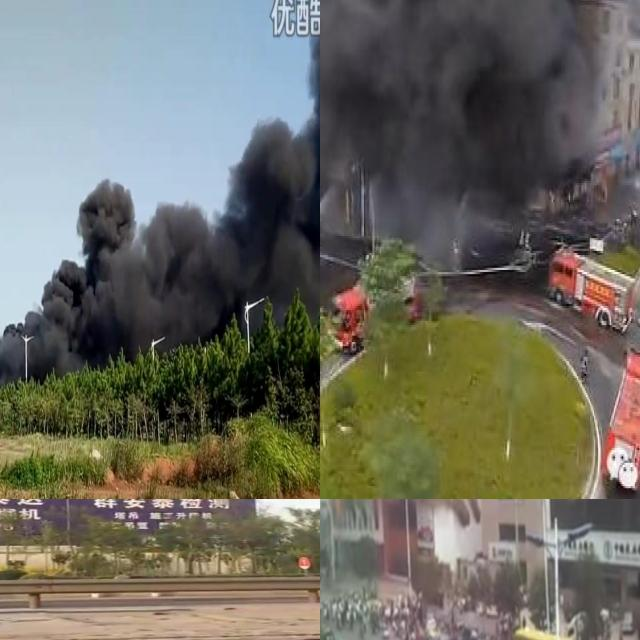smoke: (0, 11, 320, 383), (320, 0, 640, 227)
